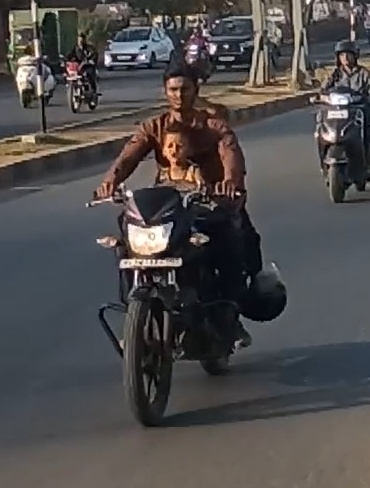BikeWithRider: (84, 63, 294, 433), (300, 36, 370, 208), (56, 29, 113, 117), (16, 30, 57, 115), (176, 23, 221, 88)
Helmet: (326, 34, 365, 75)
NoHelmet: (155, 62, 212, 116), (155, 120, 201, 168)
